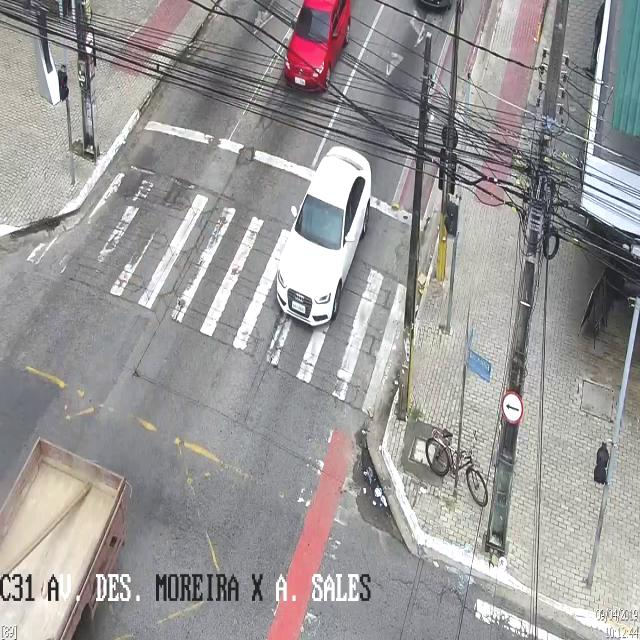Car: (278, 142, 368, 328), (282, 1, 350, 92)
Truck: (0, 392, 136, 640)
